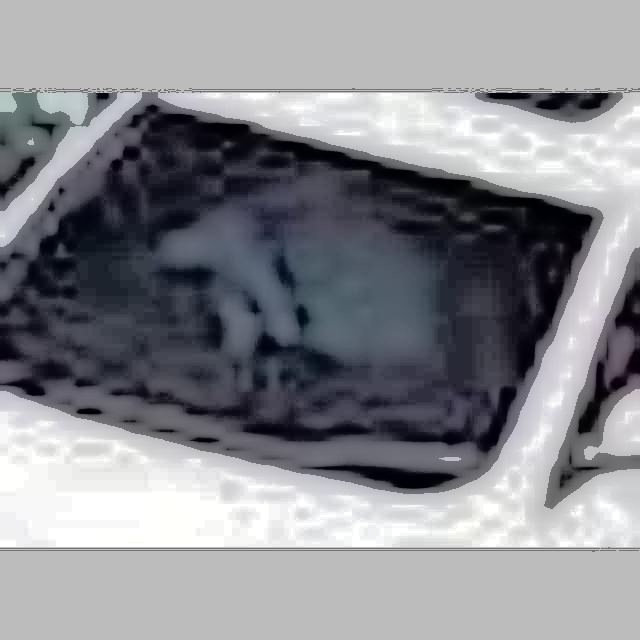pakai: (158, 176, 417, 381)
